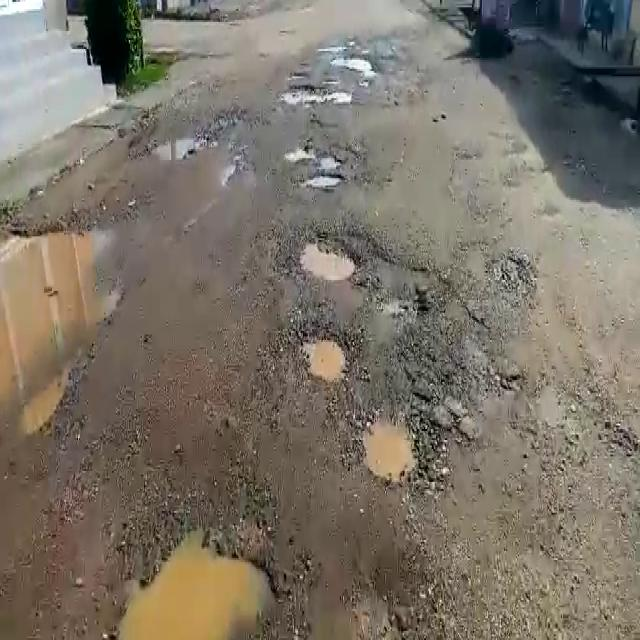Pothole: (112, 524, 279, 640), (360, 409, 422, 481), (294, 230, 358, 286), (300, 330, 351, 384), (278, 82, 351, 105), (154, 132, 200, 164), (286, 142, 343, 166), (298, 170, 350, 193), (341, 55, 382, 76)
